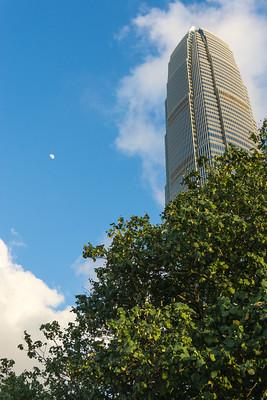building: (162, 21, 265, 246)
